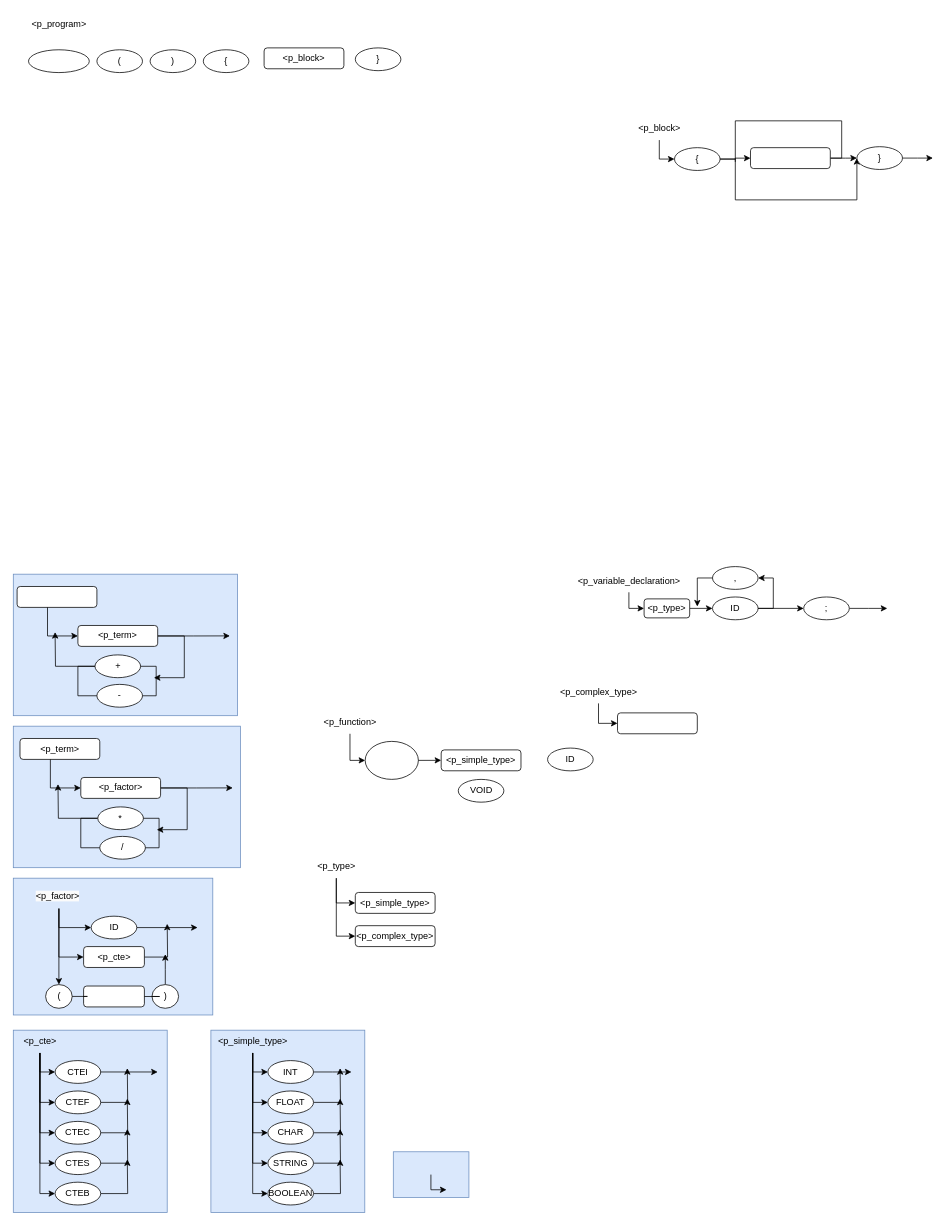
The diagram is 952 pixels wide and 1227 high, and some of its shapes have lost their labels. The shapes that lost their labels are listed below. From the top down, each one's centre as x and y in pixels, then its label:
At [58,61]: "PROGRAM".
At [790,158]: "<p_statement>".
At [56,596]: "<p_expression>".
At [657,723]: "<p_array>".
At [391,760]: "FUNCTION".
At [113,996]: "<p_exp>".
At [431,1174]: "<p_empty>".
